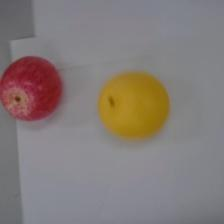red: (0, 54, 64, 123)
yellow: (97, 71, 169, 140)
